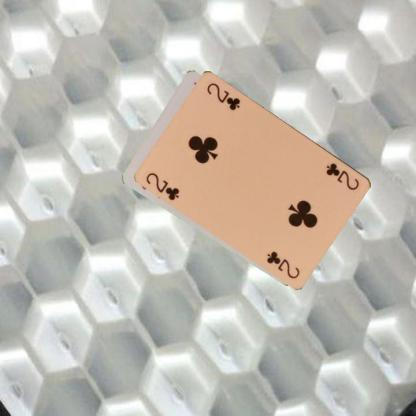2c: (144, 169, 182, 202), (324, 160, 361, 192)
